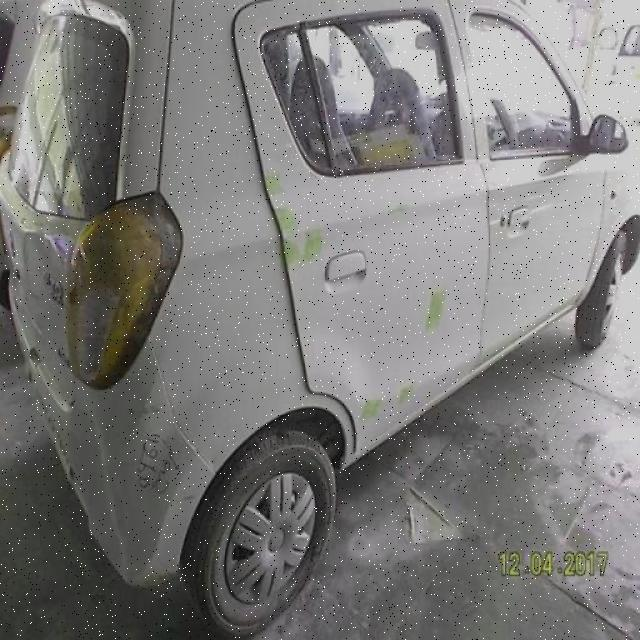car damage: (426, 284, 451, 334), (125, 399, 165, 424), (357, 392, 384, 424), (304, 224, 327, 261), (275, 204, 300, 234), (285, 240, 306, 273), (265, 166, 285, 198), (384, 200, 415, 219), (396, 386, 415, 410)
